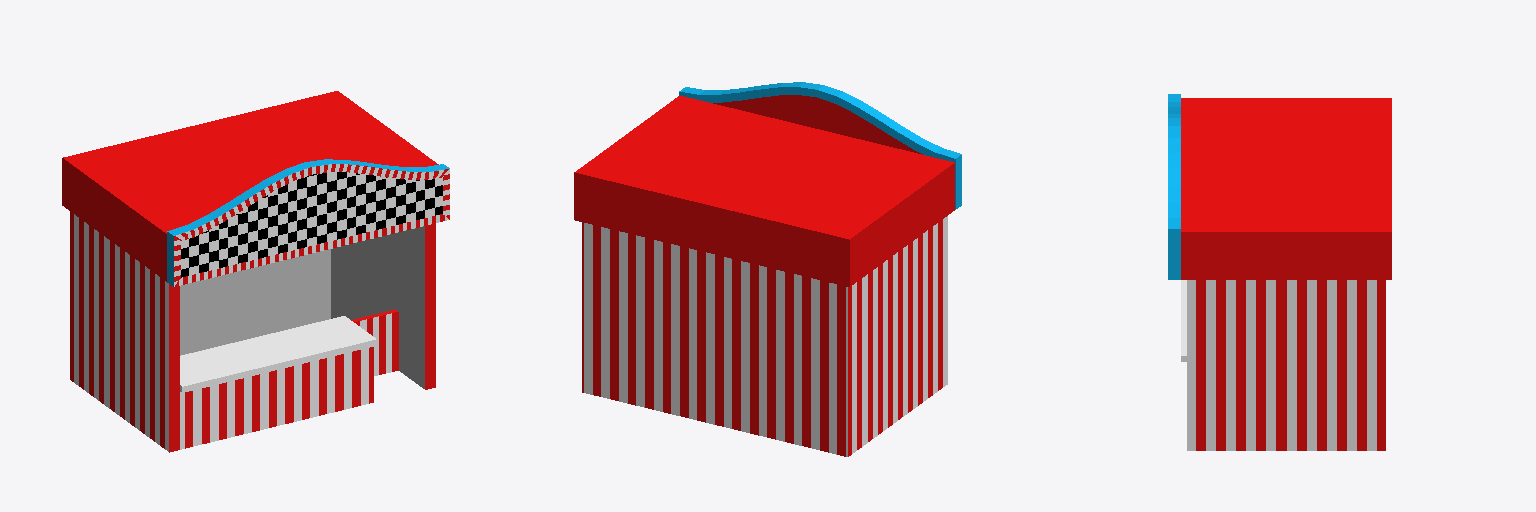
The picture shows the model from 3 angles: view 1: azimuth 30°, elevation 25°; view 2: azimuth 150°, elevation 25°; view 3: azimuth 270°, elevation 25°; orthographic projection.
Visible parts, largest first — view 1: Puesto_Dardos; view 2: Puesto_Dardos; view 3: Puesto_Dardos.
Boxes of the visible parts, box(x1,y1,x2,y2) form: Puesto_Dardos: box(62, 91, 449, 452); Puesto_Dardos: box(574, 82, 961, 456); Puesto_Dardos: box(1168, 94, 1391, 450).
Bounding box in the file's own units: 3.63 × 3.26 × 2.54.
Materials: 9 (6 with a texture image).